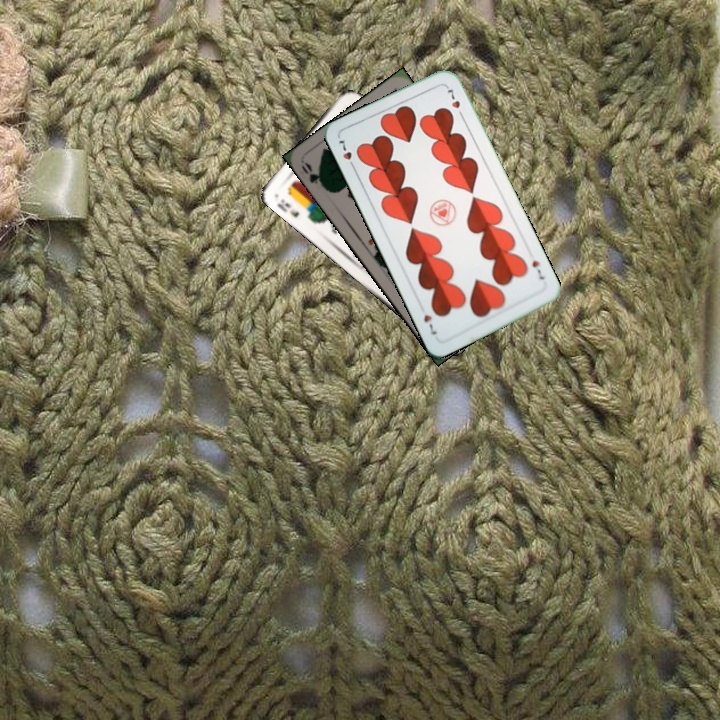EK: (273, 195, 302, 220)
GO: (301, 158, 329, 193)
H7: (334, 136, 358, 172), (528, 256, 548, 282)
